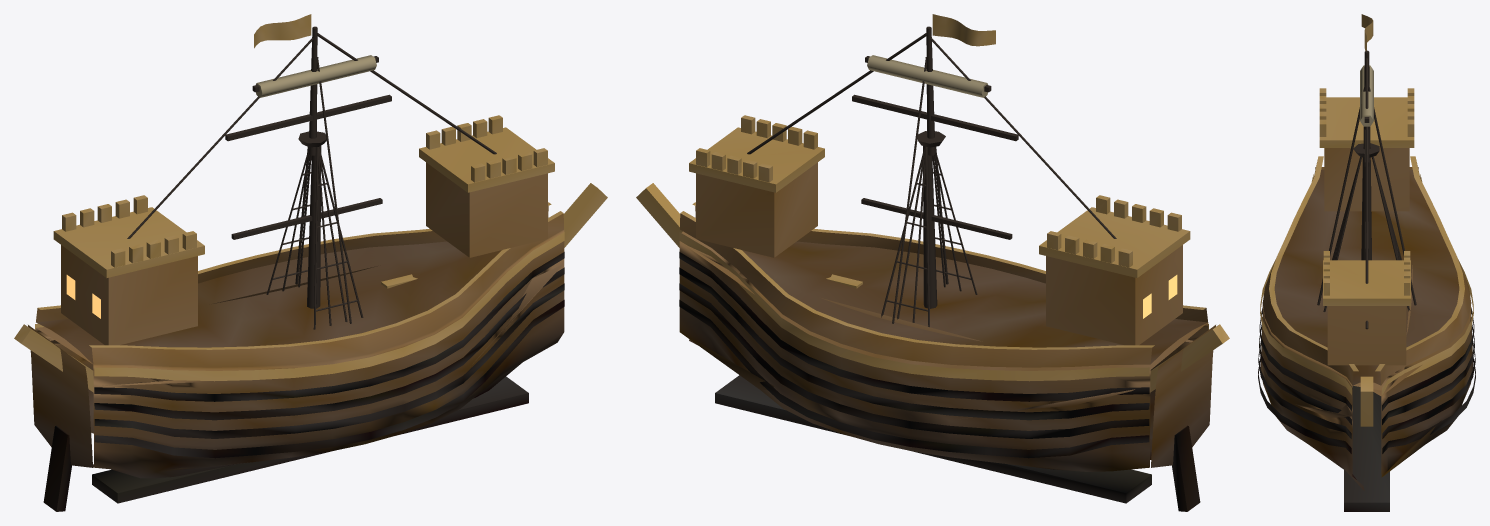
The model's file is garden-hero-cog.glb.
The picture shows the model from 3 angles, left to right: view 1: azimuth 30°, elevation 25°; view 2: azimuth 150°, elevation 25°; view 3: azimuth 270°, elevation 25°; orthographic projection. The views are drawn at different scales.
Parts seen in each view (by area): view 1: wood-hull, spar-hull, trim-hull, sail-hull; view 2: wood-hull, spar-hull, trim-hull, sail-hull; view 3: wood-hull, spar-hull, trim-hull, sail-hull.
Boxes of the visible parts, x1,y1,x2,y2 form: wood-hull: (14, 14, 607, 511); spar-hull: (127, 26, 496, 329); trim-hull: (35, 232, 564, 381); sail-hull: (256, 55, 376, 97); wood-hull: (636, 14, 1229, 511); spar-hull: (747, 26, 1116, 327); trim-hull: (679, 232, 1208, 381); sail-hull: (867, 55, 987, 97); wood-hull: (1258, 14, 1475, 511); spar-hull: (1317, 50, 1416, 329); trim-hull: (1260, 174, 1473, 394); sail-hull: (1360, 65, 1373, 126).
Size of the model in its own units: 13.13 by 9.22 by 4.71.
